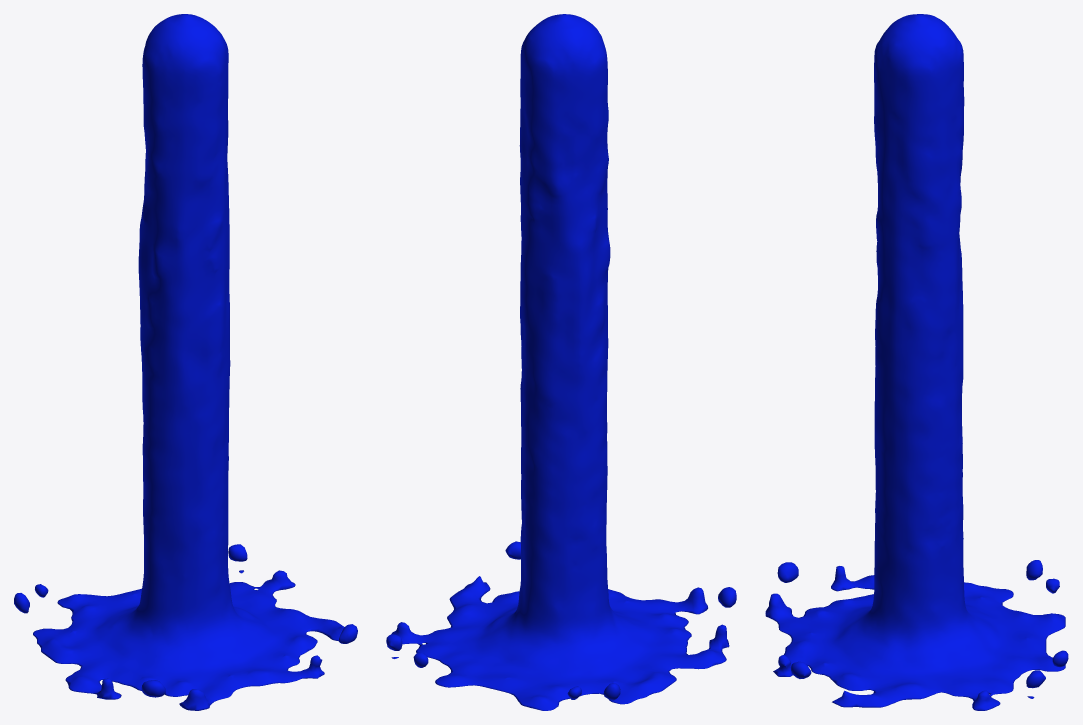
File: spflsplshfr.dae
3 views of the same model, side by side, from view 1: azimuth 30°, elevation 25°; view 2: azimuth 150°, elevation 25°; view 3: azimuth 270°, elevation 25° (orthographic).
Parts seen in each view (by area): view 1: Fluid_Domain_002; view 2: Fluid_Domain_002; view 3: Fluid_Domain_002.
Boxes of the visible parts, x1,y1,x2,y2 form: Fluid_Domain_002: (14,14,357,710); Fluid_Domain_002: (386,14,736,710); Fluid_Domain_002: (765,14,1068,710).
Size of the model in its own units: 3.67 by 3.46 by 7.95.
